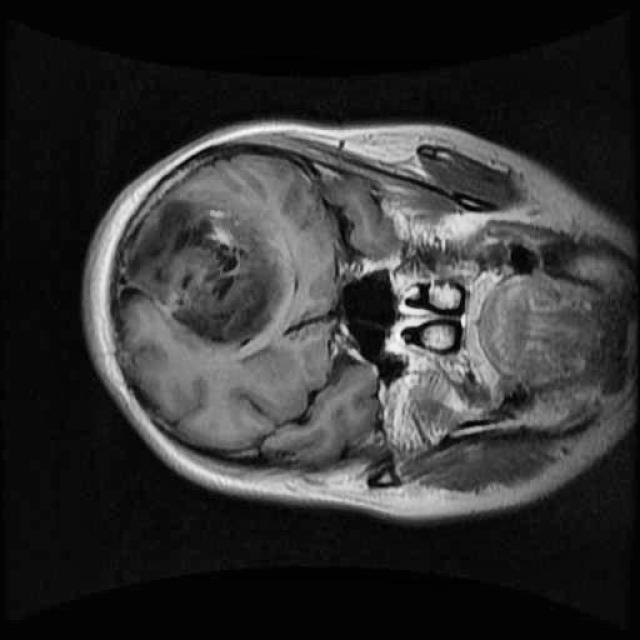Tumor: (102, 172, 304, 372)
